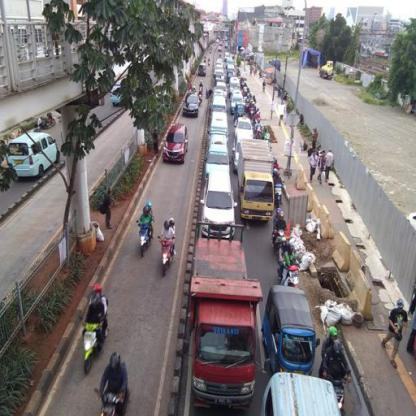car: (7, 130, 58, 180), (200, 172, 235, 236), (162, 124, 192, 164), (202, 139, 229, 168), (182, 91, 202, 118)
motorbike: (80, 310, 108, 367), (92, 383, 132, 415), (134, 217, 154, 257), (159, 230, 179, 270), (272, 219, 292, 256), (280, 258, 303, 290)
